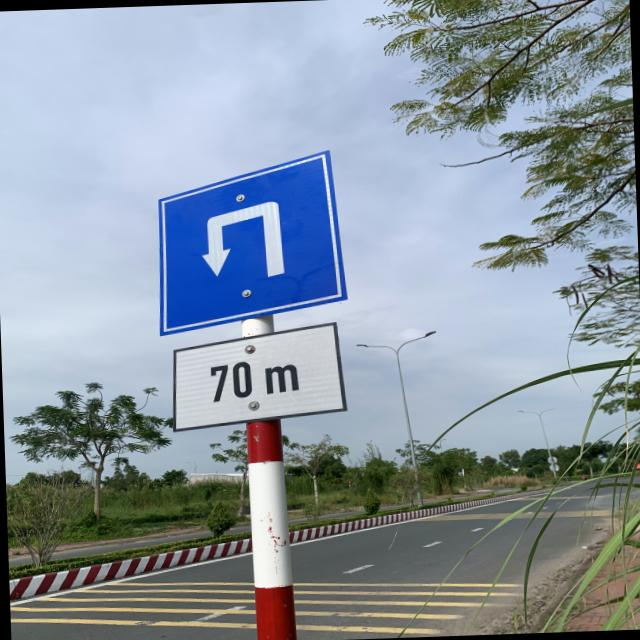Den_Giao_Thong: (151, 148, 347, 332)
